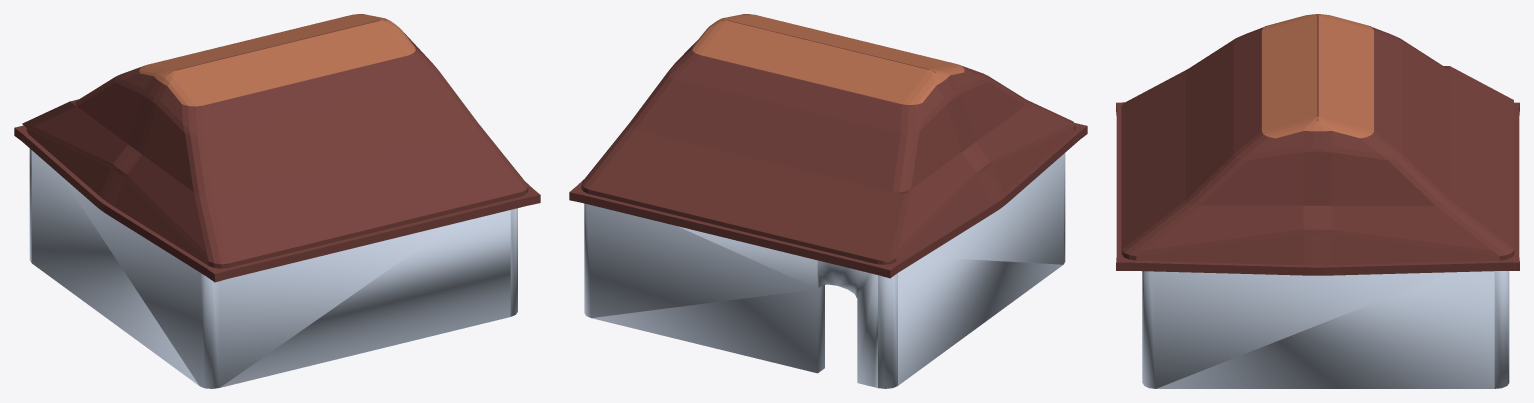
File: SimónLiker-4D-Casa.fbx
3 renders of one model, left to right at view 1: azimuth 30°, elevation 25°; view 2: azimuth 150°, elevation 25°; view 3: azimuth 270°, elevation 25°, orthographic. The views are drawn at different scales.
Visible parts, largest first — view 1: Cylinder.001; view 2: Cylinder.001; view 3: Cylinder.001.
Boxes of the visible parts, x1=… form: Cylinder.001: x1=14, y1=14, x2=540, y2=388; Cylinder.001: x1=569, y1=14, x2=1087, y2=388; Cylinder.001: x1=1116, y1=14, x2=1519, y2=388.
Bounding box in the file's own units: 1112 × 735 × 1098.
1 material, 1 textured.
